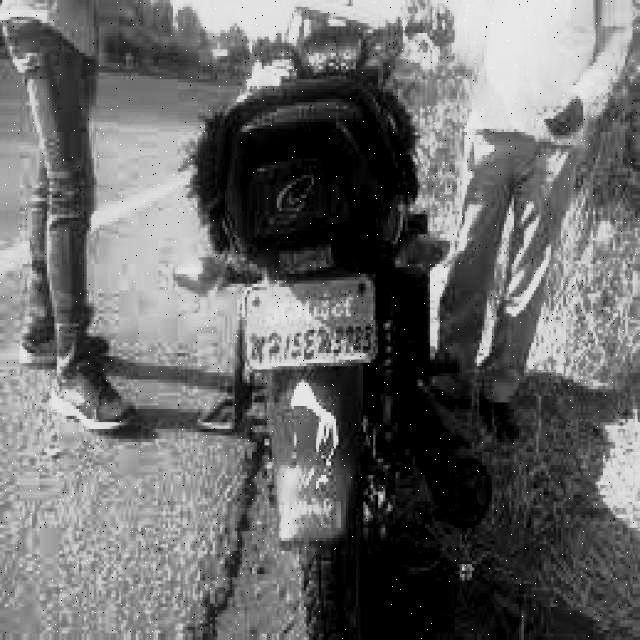Bike: (189, 63, 487, 640)
